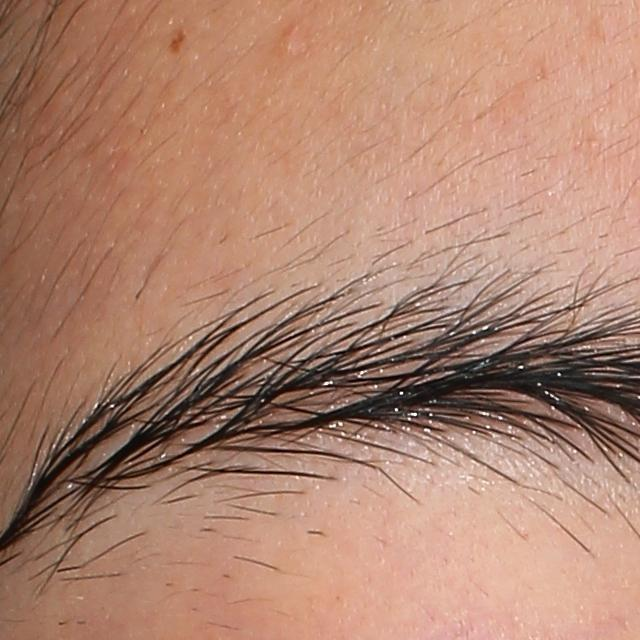nevus: (166, 28, 191, 56)
